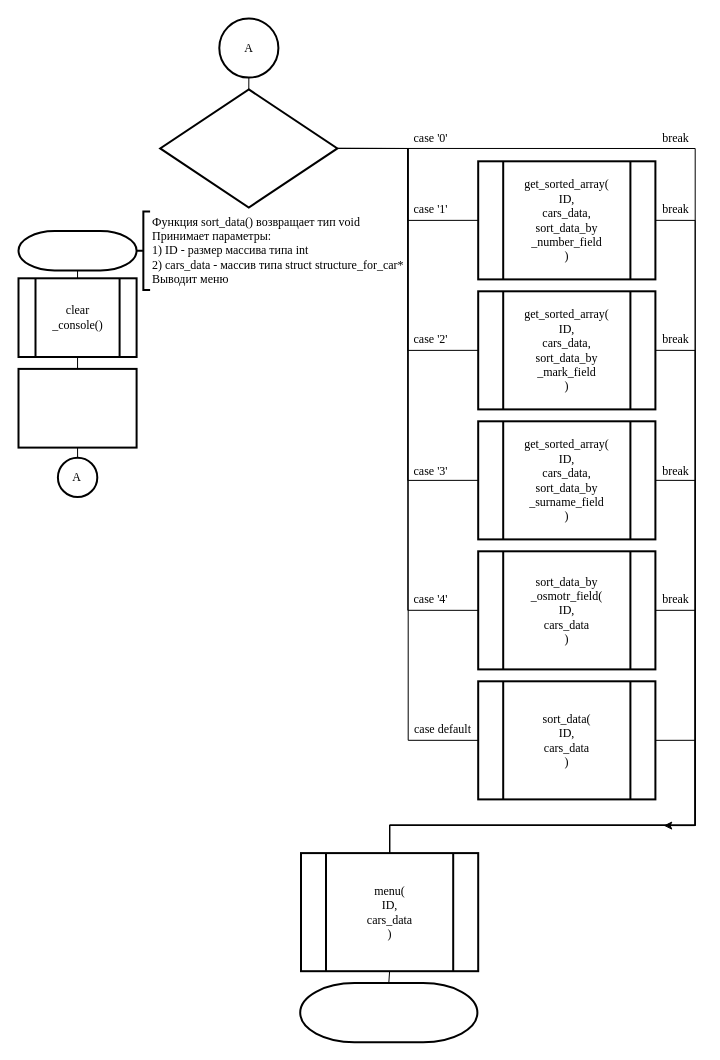
This 720x1060 diagram has some shape labels left out. The shapes that lost their labels are listed below. From the top down, each one's centre as x and y in pixels, then its label:
the point at 248,148: choosen_case
the point at 77,250: void sort_data()
the point at 77,407: choosen_case := getch()
the point at 388,1012: Конец
